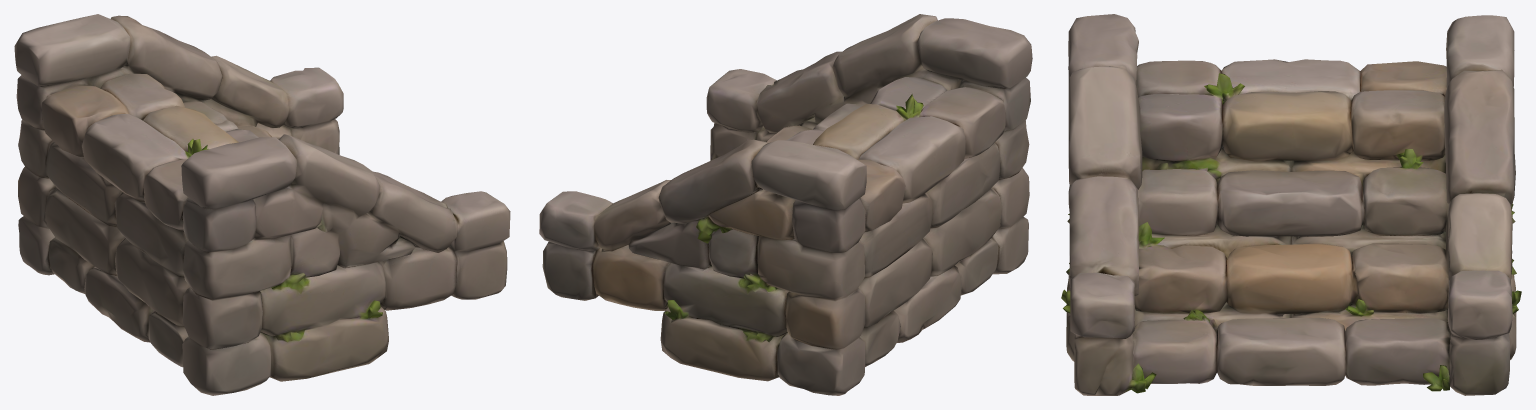
Rendered from stairs_stone_l0.glb.
The picture shows the model from 3 angles, left to right: view 1: azimuth 30°, elevation 25°; view 2: azimuth 150°, elevation 25°; view 3: azimuth 270°, elevation 25°; orthographic projection. The views are drawn at different scales.
Parts seen in each view (by area): view 1: tripo_node_ca8a87b0-69b4-4206-b909-c1a4d31dd16f; view 2: tripo_node_ca8a87b0-69b4-4206-b909-c1a4d31dd16f; view 3: tripo_node_ca8a87b0-69b4-4206-b909-c1a4d31dd16f.
Boxes of the visible parts, x1,y1,x2,y2 form: tripo_node_ca8a87b0-69b4-4206-b909-c1a4d31dd16f: [14, 14, 510, 395]; tripo_node_ca8a87b0-69b4-4206-b909-c1a4d31dd16f: [539, 14, 1032, 395]; tripo_node_ca8a87b0-69b4-4206-b909-c1a4d31dd16f: [1061, 14, 1521, 395].
Bounding box in the file's own units: 0.8522 × 0.6154 × 0.9826.
1 material, 1 textured.
